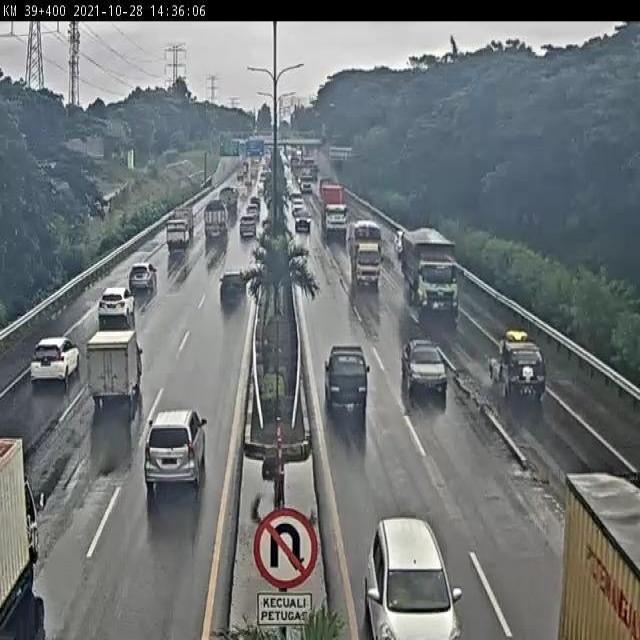car: (487, 335, 544, 397)
truck-m-: (400, 232, 461, 317)
truck-s-: (83, 330, 146, 410)
truck-xl-: (319, 185, 349, 239)
